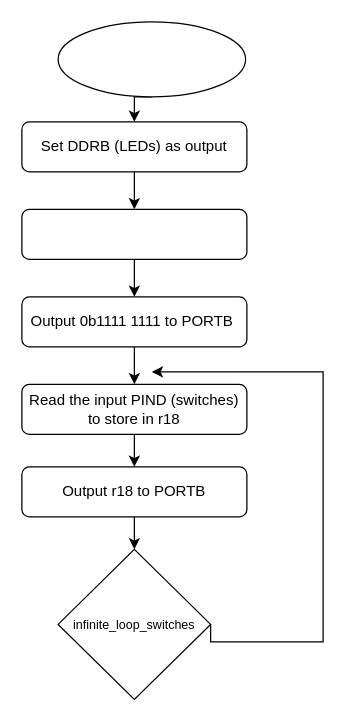
Image size: 355x721. Some labels were removed from this diagram. The box of each missing label's shape, as (x1, y1, x2, y2) in pixels:
Set DDRD (Switches) as input: (21, 208, 247, 259)
Start: (57, 21, 246, 97)
